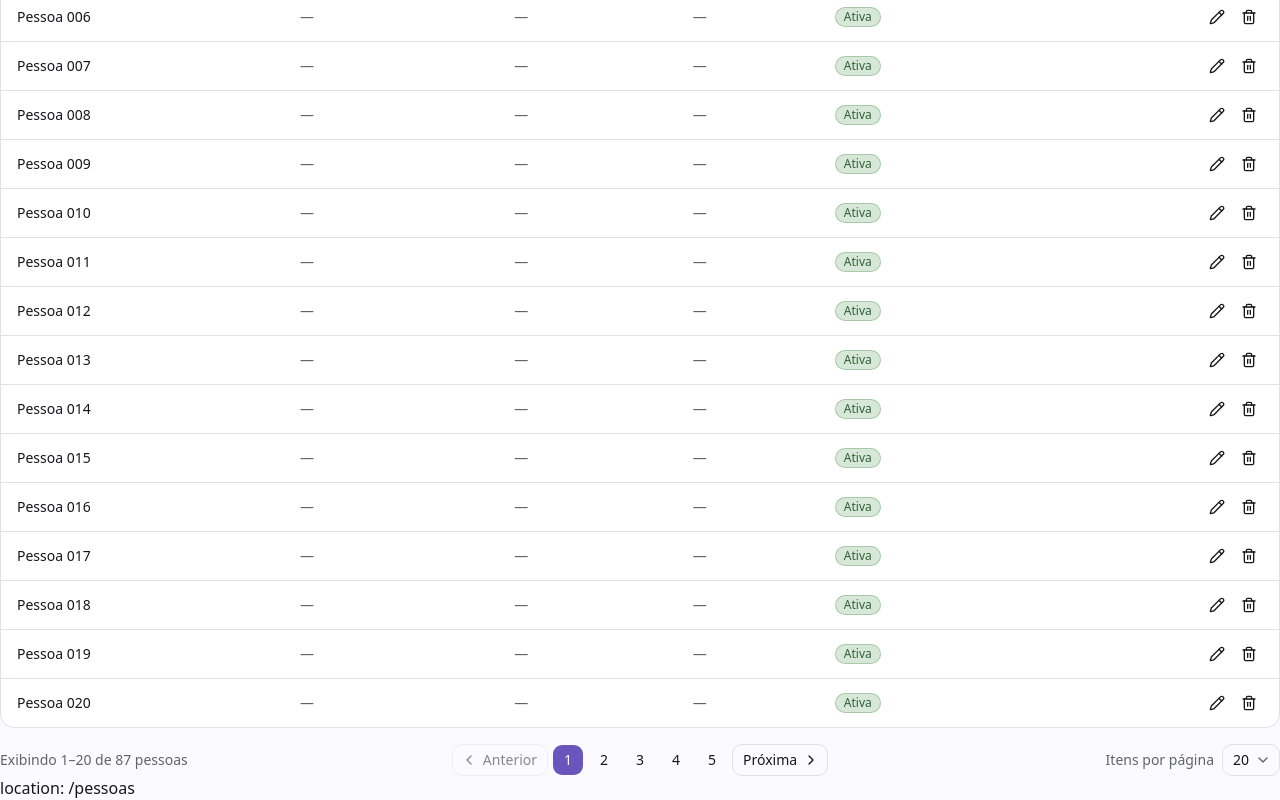
Test: ClientListPage › retries the same page and size from the failure, not the first page
(page scrolled)
Click the dropdown named "Itens por página".
click(1251, 760)  # box [1222, 744, 1279, 776]
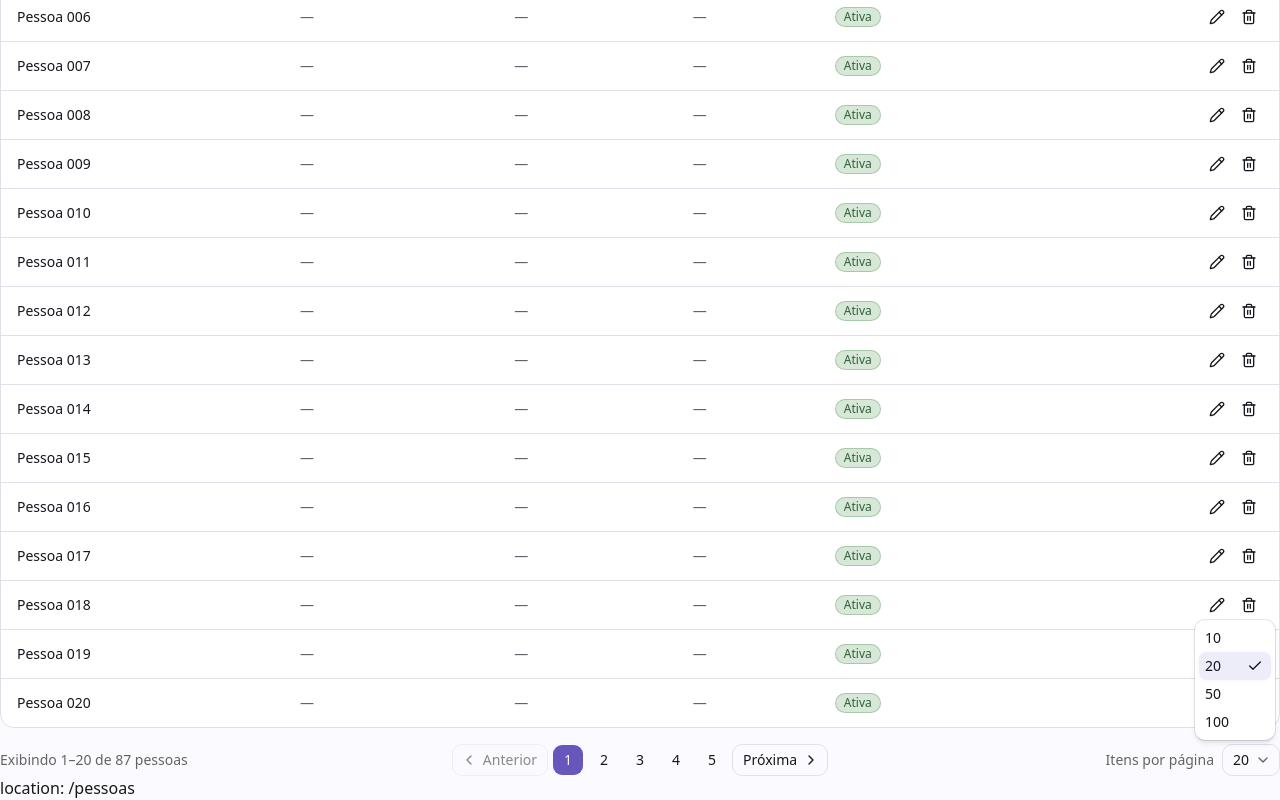
Click the option "10".
click(1213, 638)  # box [1205, 628, 1221, 647]
(page scrolled)
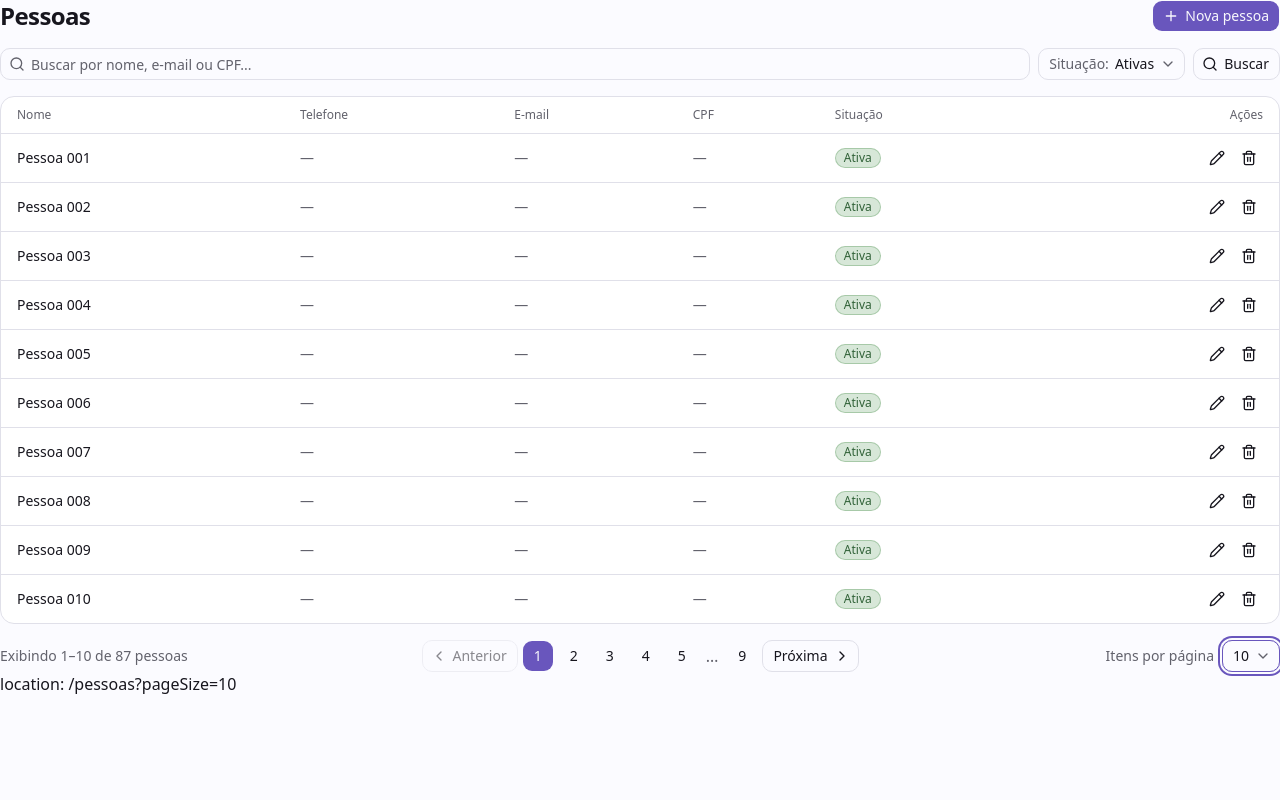
Click the button named "Ir para a página 3".
click(610, 656)  # box [594, 640, 626, 672]
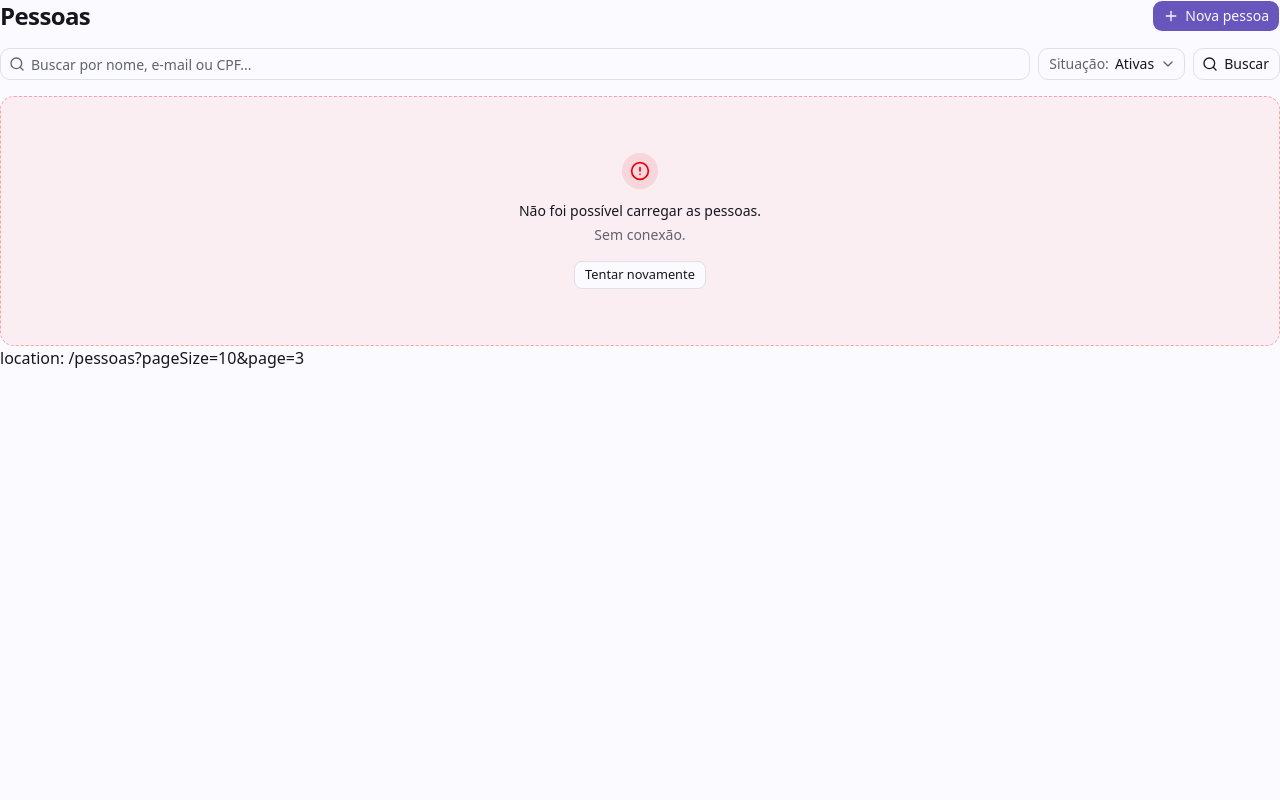
Click the button "Tentar novamente".
click(640, 275)  # box [574, 261, 706, 289]
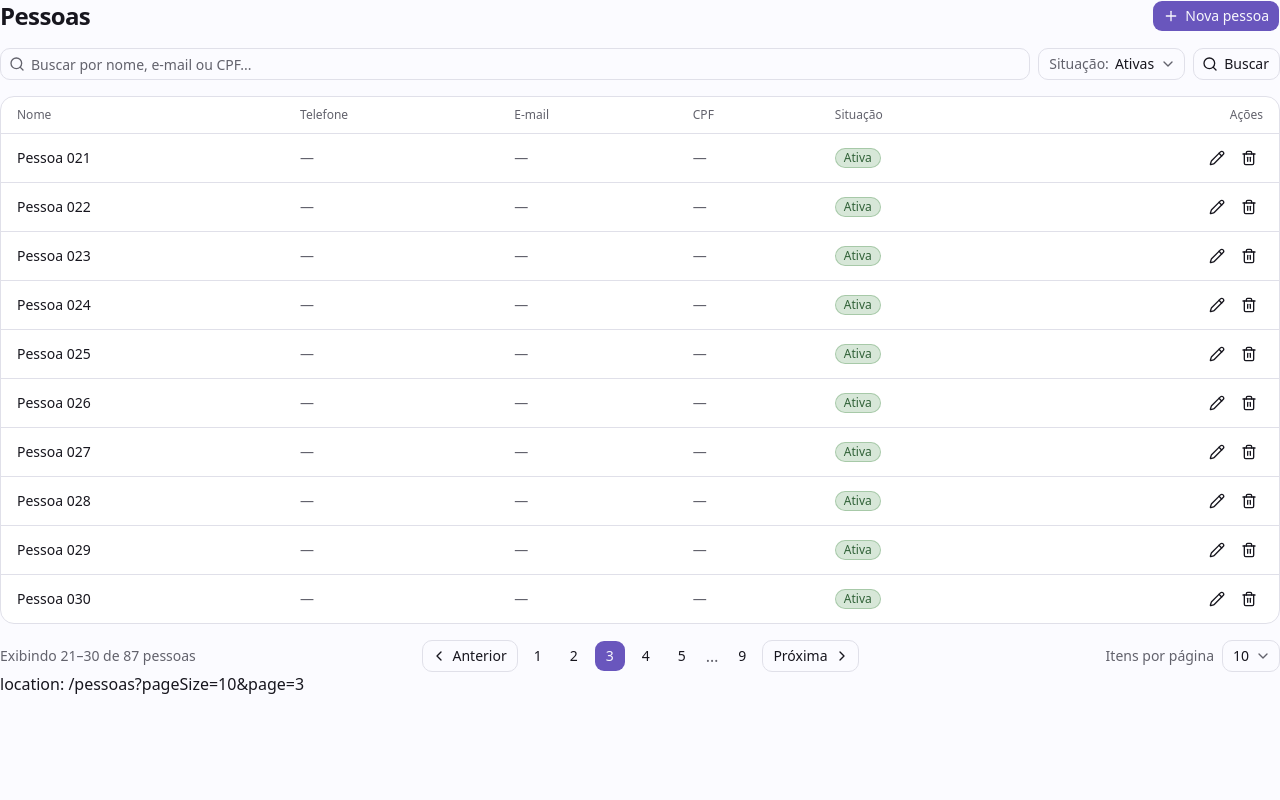
Expected: the link "Pessoa 021" is shown, [17, 148, 91, 167]
